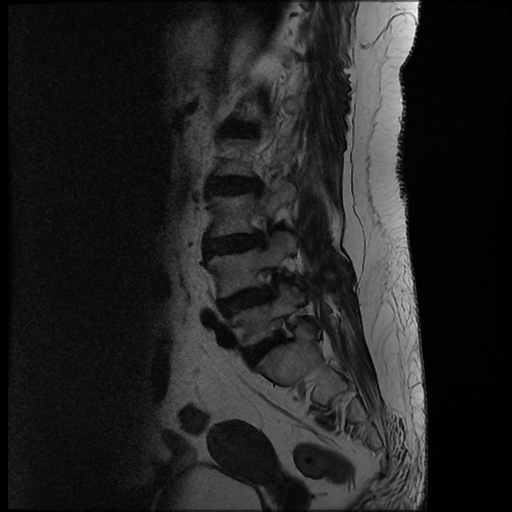LFS1: (262, 308, 303, 348)
